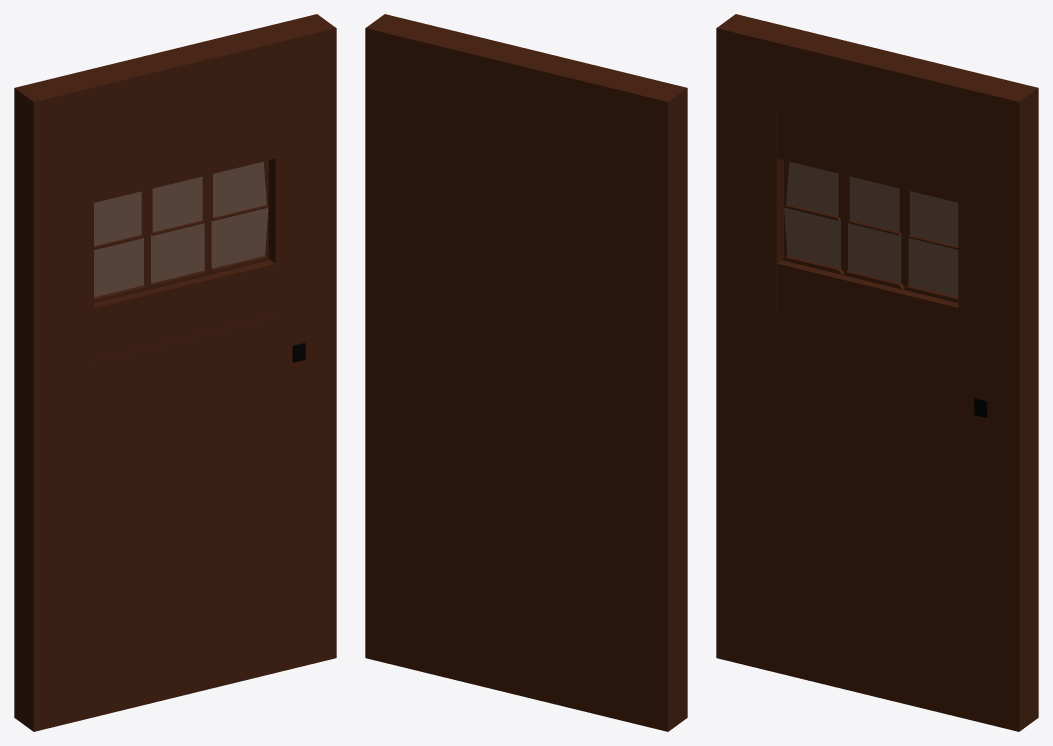
Rendered from Porta.glb.
3 renders of one model, left to right at view 1: azimuth 30°, elevation 25°; view 2: azimuth 150°, elevation 25°; view 3: azimuth 330°, elevation 25°, orthographic.
Parts seen in each view (by area): view 1: PORTA; view 2: PORTA; view 3: PORTA.
Part boxes in pixels (box(x1,y1,x2,y2)): PORTA: box(14, 14, 336, 731); PORTA: box(365, 14, 687, 731); PORTA: box(716, 14, 1038, 731).
Bounding box in the file's own units: 1.01 × 2 × 0.1282.
